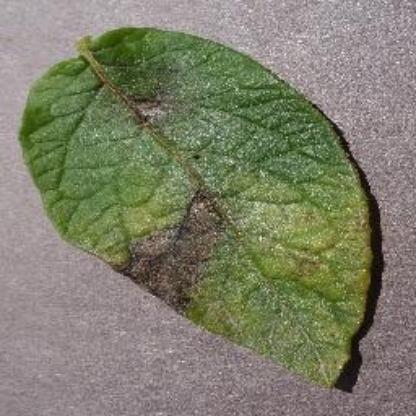Late-Blight: (20, 27, 384, 387)
